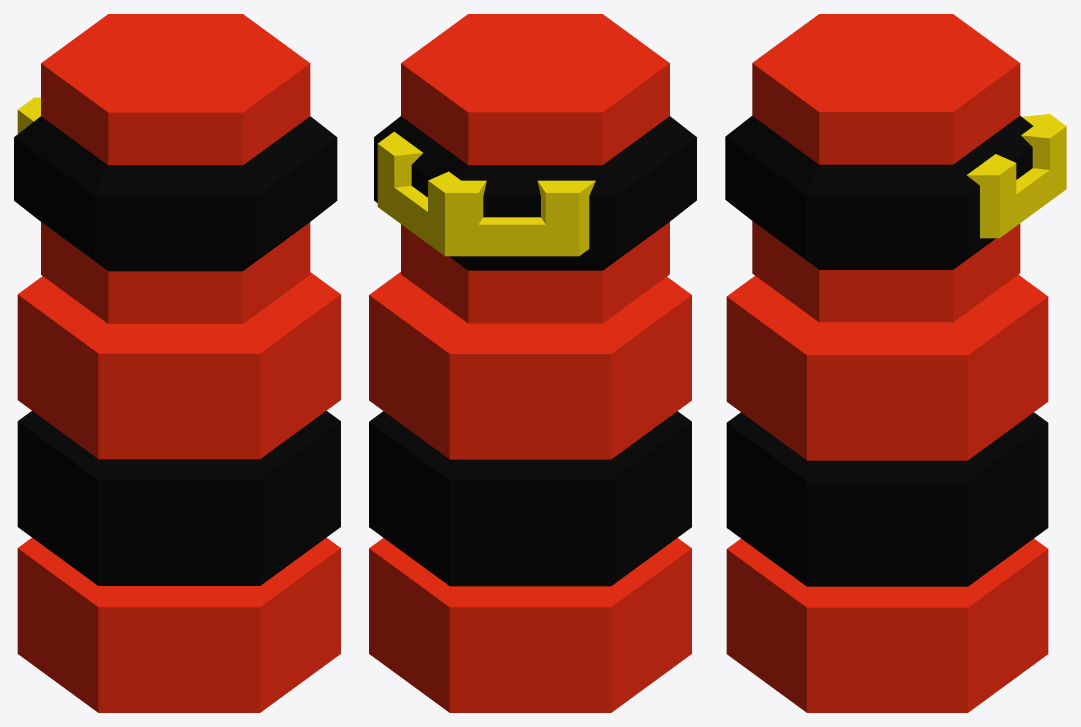
File: enemybee.glb
The picture shows the model from 3 angles, left to right: view 1: azimuth 30°, elevation 25°; view 2: azimuth 150°, elevation 25°; view 3: azimuth 270°, elevation 25°; orthographic projection.
Parts seen in each view (by area): view 1: hexagon_overhangDetail%, hexagon_ring.001, hexagon_ring, hexagon_ring.002, hexagon_castleBattlementFront; view 2: hexagon_overhangDetail%, hexagon_ring.001, hexagon_ring.002, hexagon_ring, hexagon_castleBattlementFront; view 3: hexagon_overhangDetail%, hexagon_ring.001, hexagon_ring.002, hexagon_ring, hexagon_castleBattlementFront.
Boxes of the visible parts, box(x1,y1,x2,y2) form: hexagon_overhangDetail%: box(14, 14, 337, 323); hexagon_ring.001: box(17, 272, 340, 459); hexagon_ring: box(17, 537, 340, 712); hexagon_ring.002: box(17, 411, 340, 585); hexagon_castleBattlementFront: box(17, 97, 40, 133); hexagon_overhangDetail%: box(374, 14, 696, 323); hexagon_ring.001: box(369, 272, 691, 459); hexagon_ring.002: box(369, 411, 691, 586); hexagon_ring: box(369, 538, 691, 712); hexagon_castleBattlementFront: box(377, 131, 595, 256); hexagon_overhangDetail%: box(725, 14, 1033, 322); hexagon_ring.001: box(726, 275, 1048, 460); hexagon_ring.002: box(726, 412, 1048, 586); hexagon_ring: box(726, 538, 1048, 712); hexagon_castleBattlementFront: box(967, 114, 1066, 238).
Bounding box in the file's own units: 1.22 × 2.8 × 1.47.
